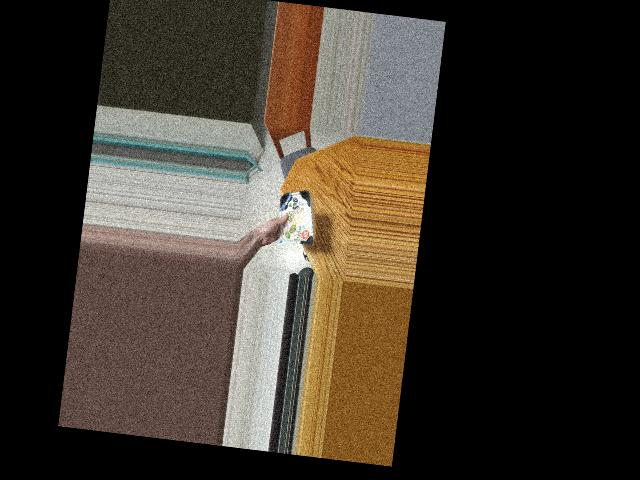cheese: (271, 193, 318, 237)
